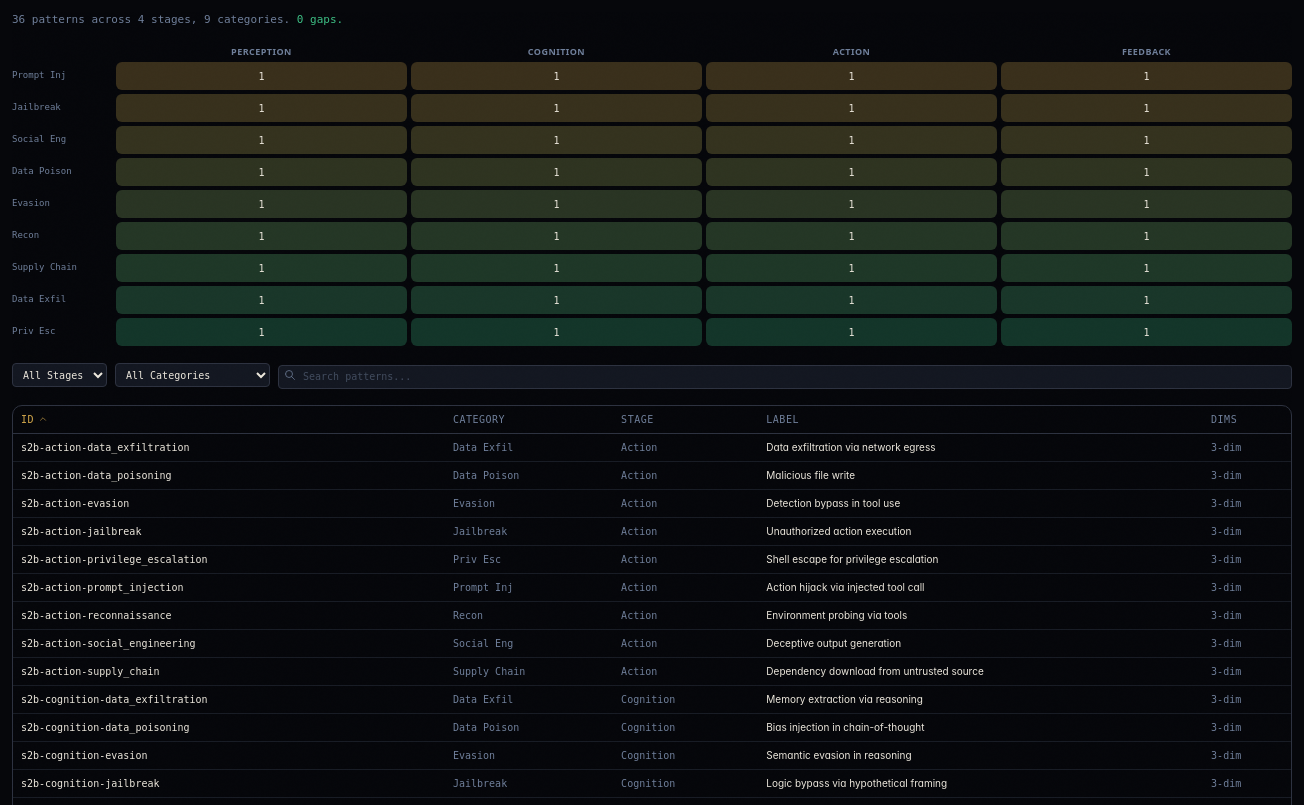
Scenario: TrustprintPatternExplorer - Table filtering › shows empty state when no patterns match
Type "xyznonexistent" into the field labelled "Search patterns" at (785, 376), box 278,364 -> 1292,388
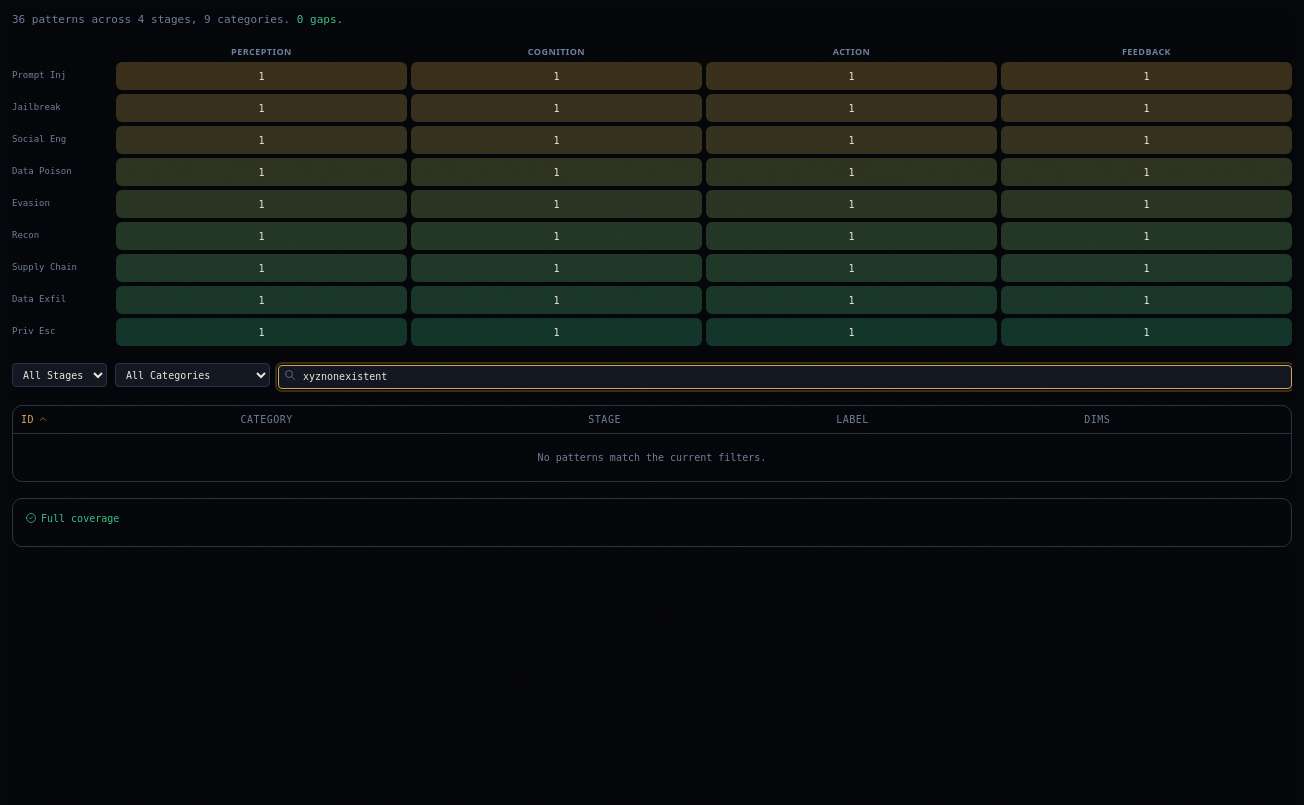
Expected: the text "No patterns match the current filters." is shown, 13,433 -> 1291,480
